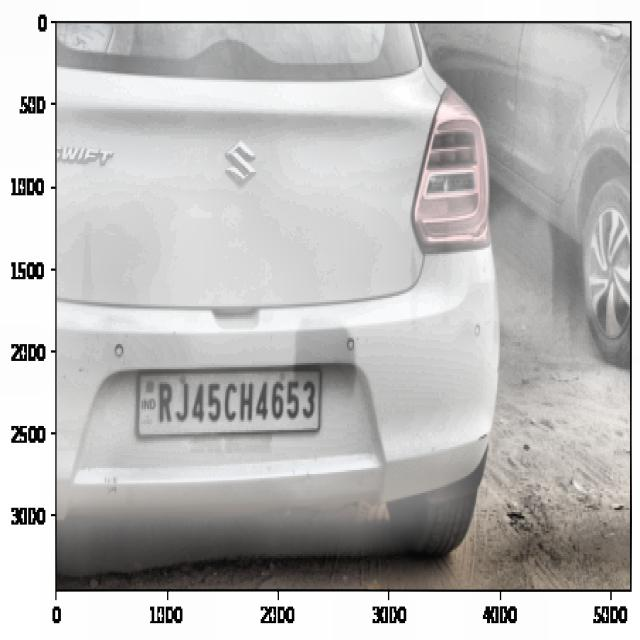license_plate: (153, 372, 321, 428)
